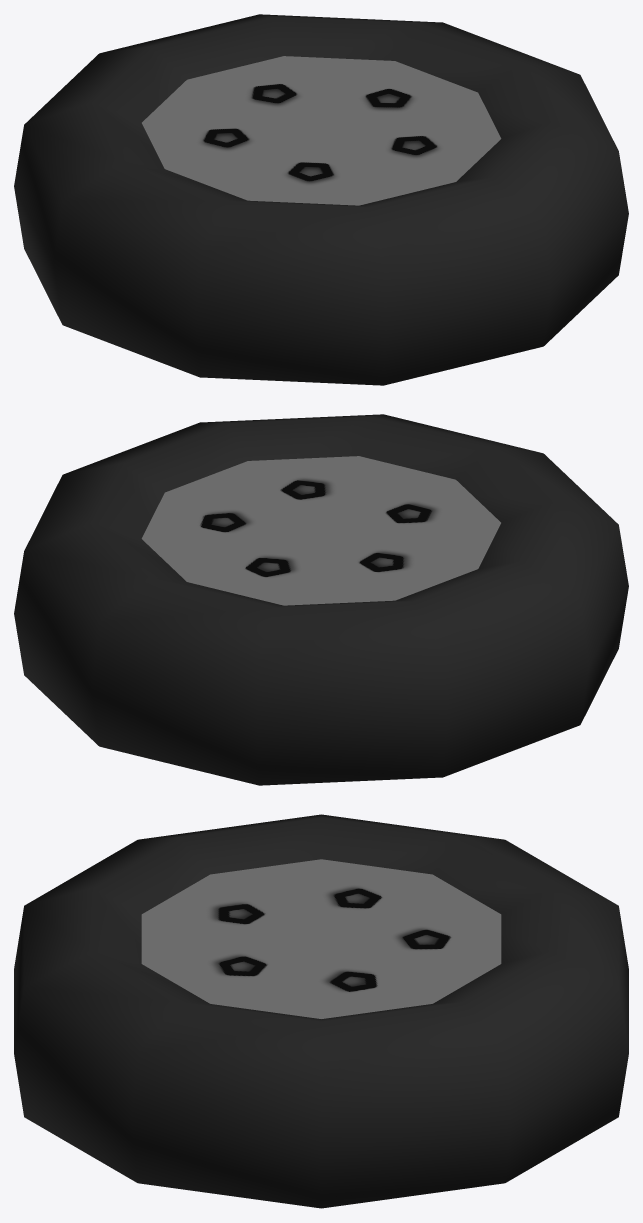
The model's file is tire.glb.
3 renders of one model, top to bottom at view 1: azimuth 30°, elevation 25°; view 2: azimuth 150°, elevation 25°; view 3: azimuth 270°, elevation 25°, orthographic. The views are drawn at different scales.
Parts seen in each view (by area): view 1: Circle; view 2: Circle; view 3: Circle.
Part boxes in pixels (box(x1,y1,x2,y2)): Circle: box(14, 14, 628, 385); Circle: box(14, 414, 628, 785); Circle: box(14, 814, 628, 1208).
Size of the model in its own units: 2.68 by 0.84 by 2.55.
Materials: 2 (1 with a texture image).
